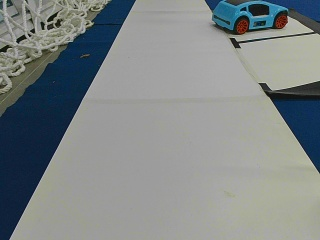car: (212, 2, 288, 33)
